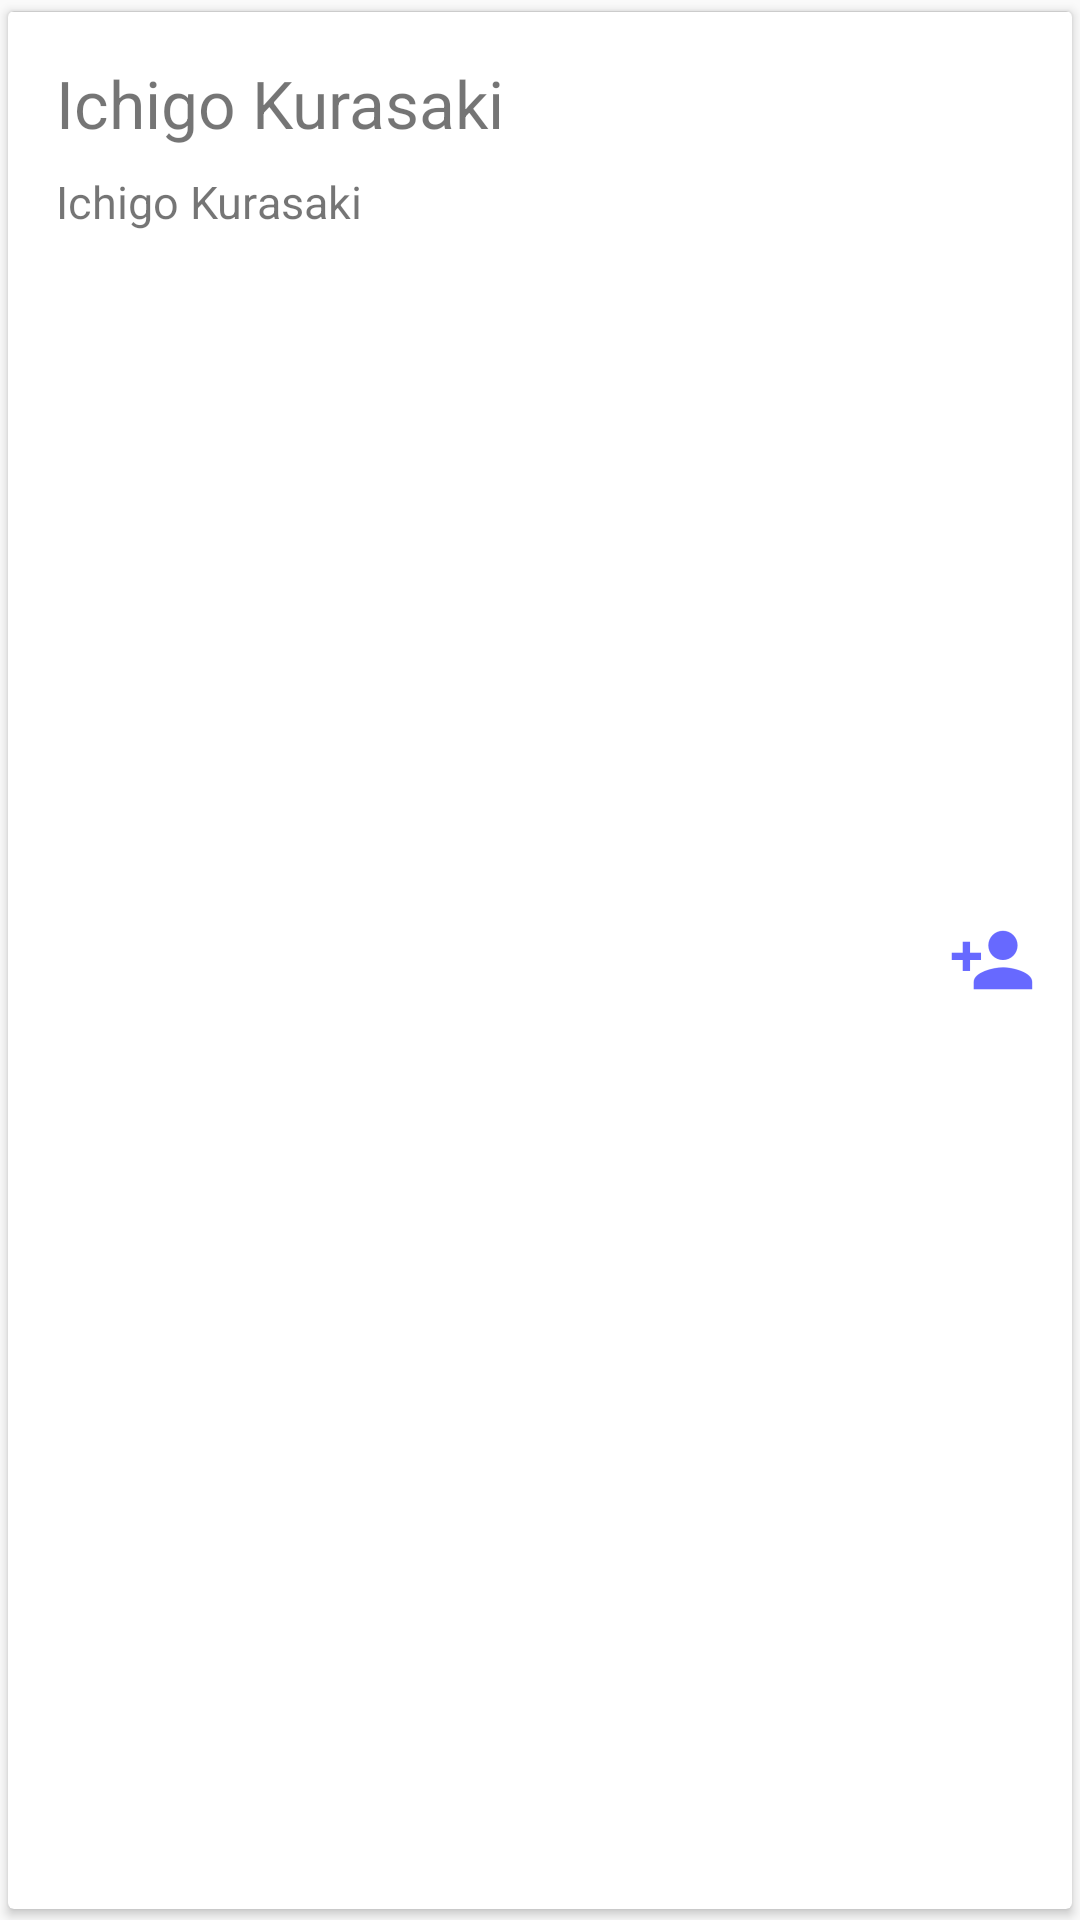

Named icons in this screenshot (1080w x 1920h) and their centers, (x,y):
add friend: (992,960)
